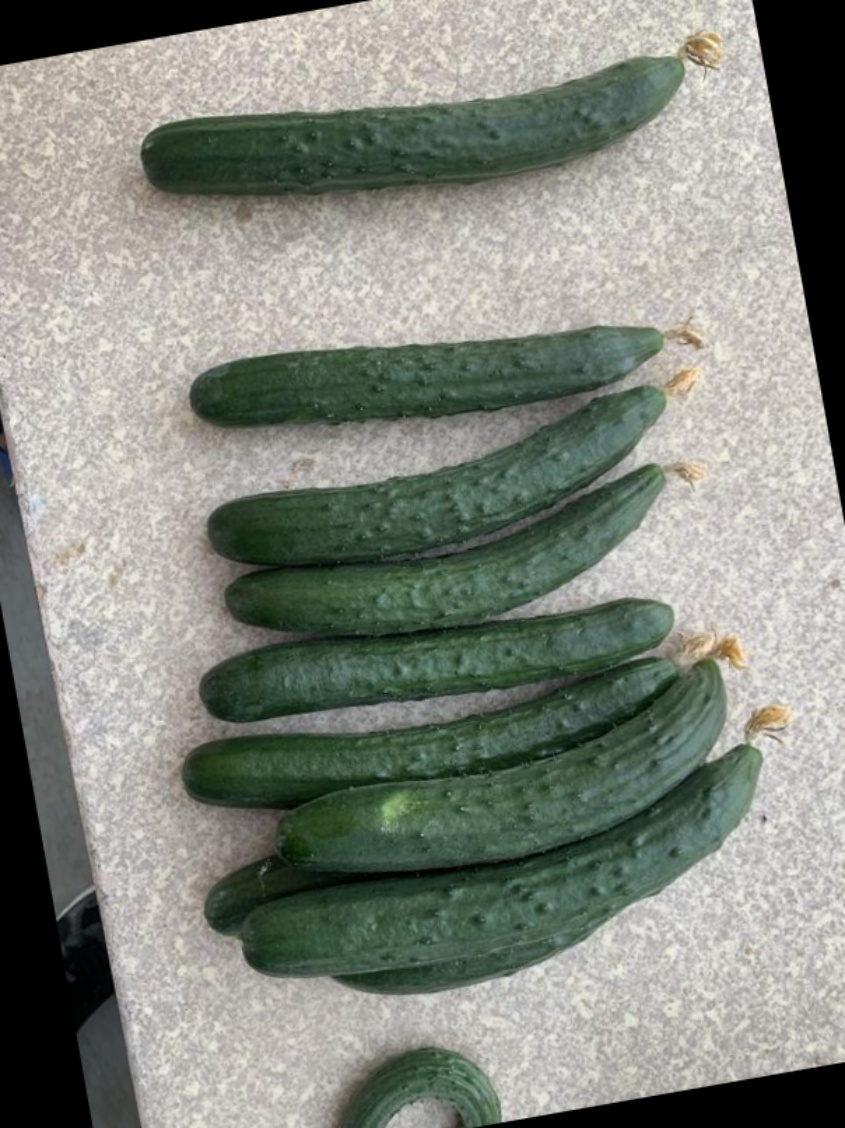mature: (246, 746, 765, 970)
